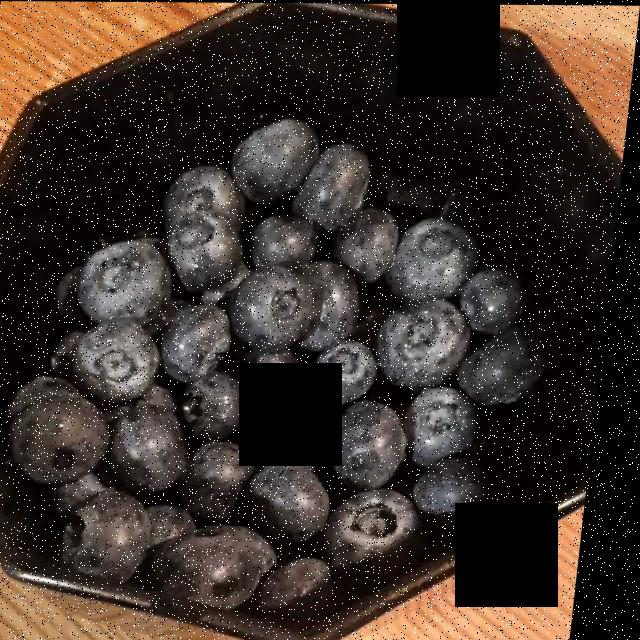blueberries: (25, 117, 542, 611)
